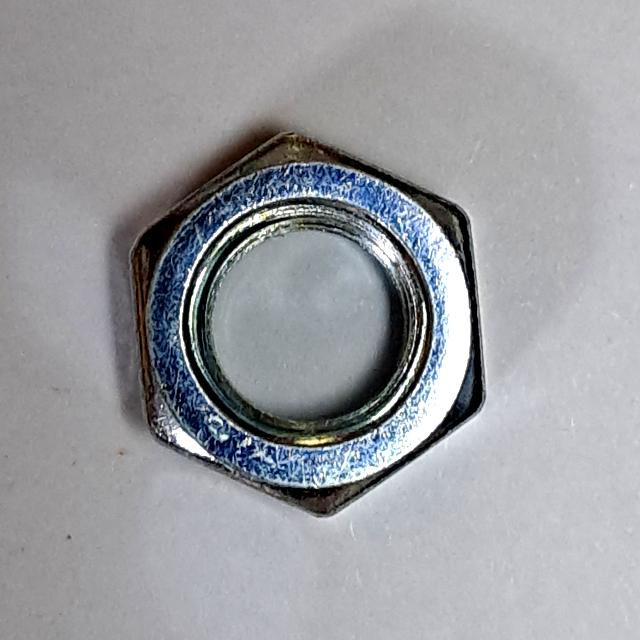Excellent: (115, 119, 500, 528)
